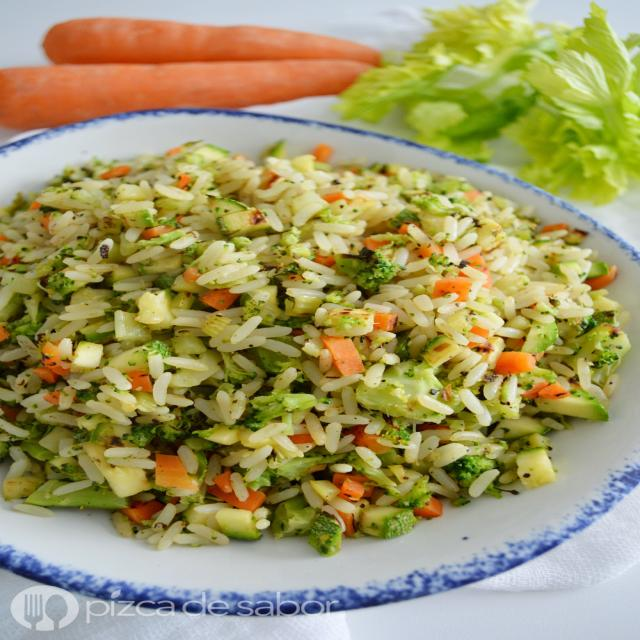arroz: (6, 147, 594, 552)
